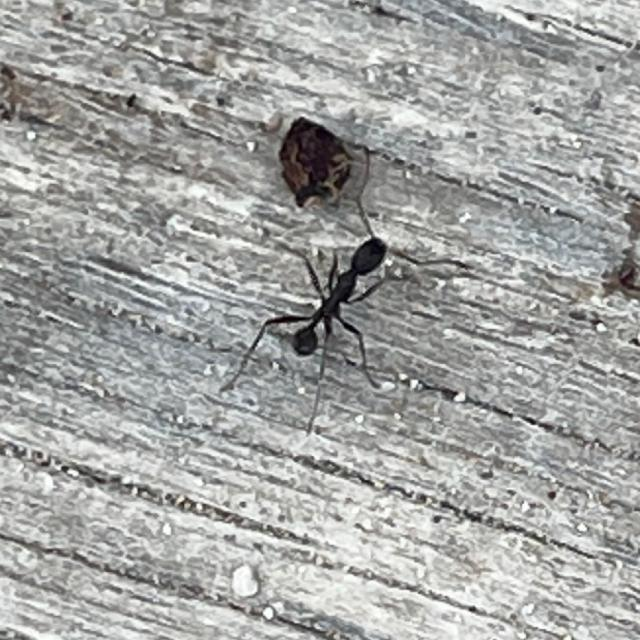Apheanogaster: (254, 206, 424, 392)
